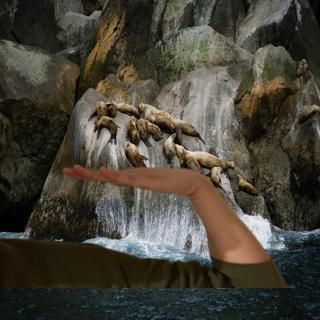WAIT: (60, 158, 208, 200)
